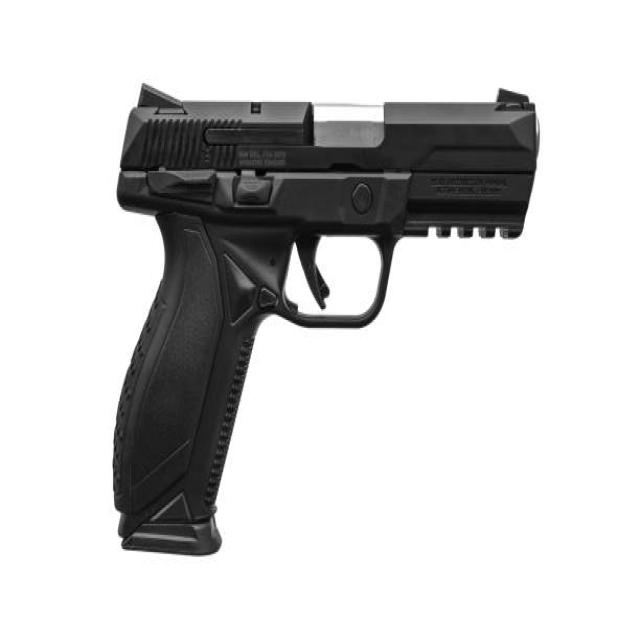pistol: (99, 75, 544, 564)
